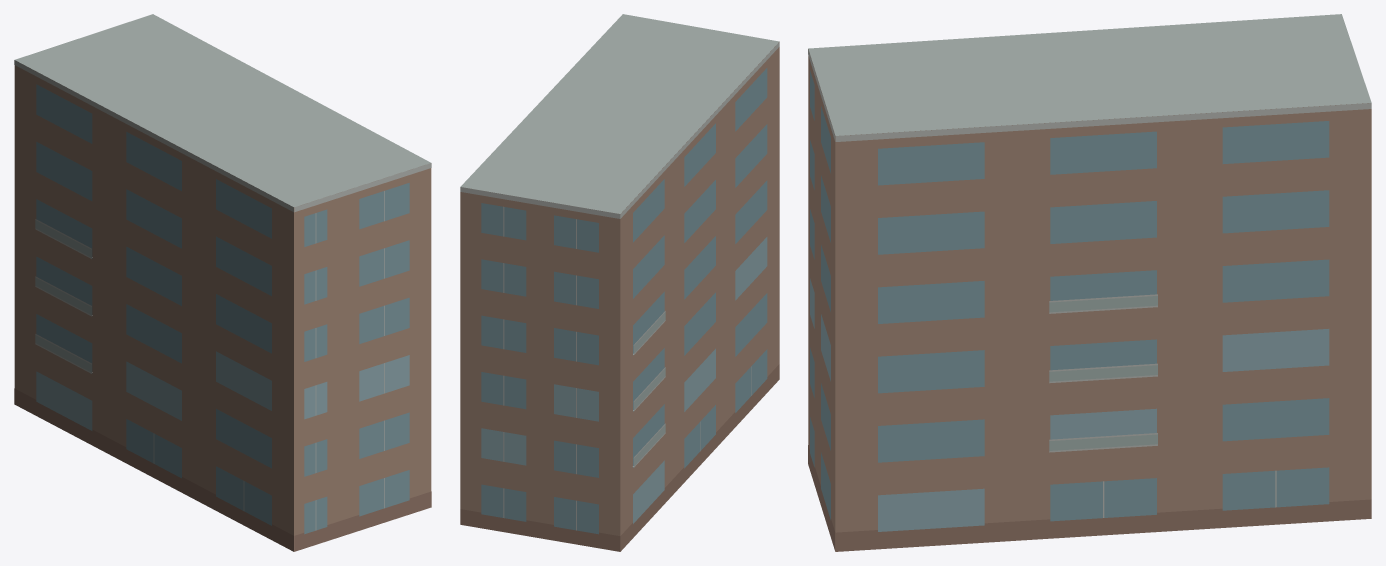
File: survey-upis-32739160.glb
3 views of the same model, side by side, from view 1: azimuth 30°, elevation 25°; view 2: azimuth 150°, elevation 25°; view 3: azimuth 270°, elevation 25° (orthographic). The views are drawn at different scales.
Parts seen in each view (by area): view 1: survey-upis-32739160.tmp; view 2: survey-upis-32739160.tmp; view 3: survey-upis-32739160.tmp.
Boxes of the visible parts, x1,y1,x2,y2 form: survey-upis-32739160.tmp: (14,14,431,551); survey-upis-32739160.tmp: (460,14,779,551); survey-upis-32739160.tmp: (808,14,1371,551).
Size of the model in its own units: 10.46 by 16.6 by 20.39.
